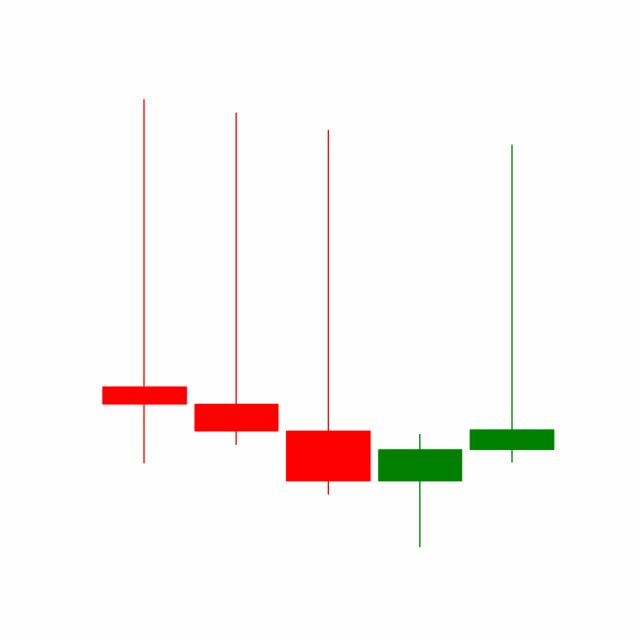Hammer: (373, 432, 467, 548)
